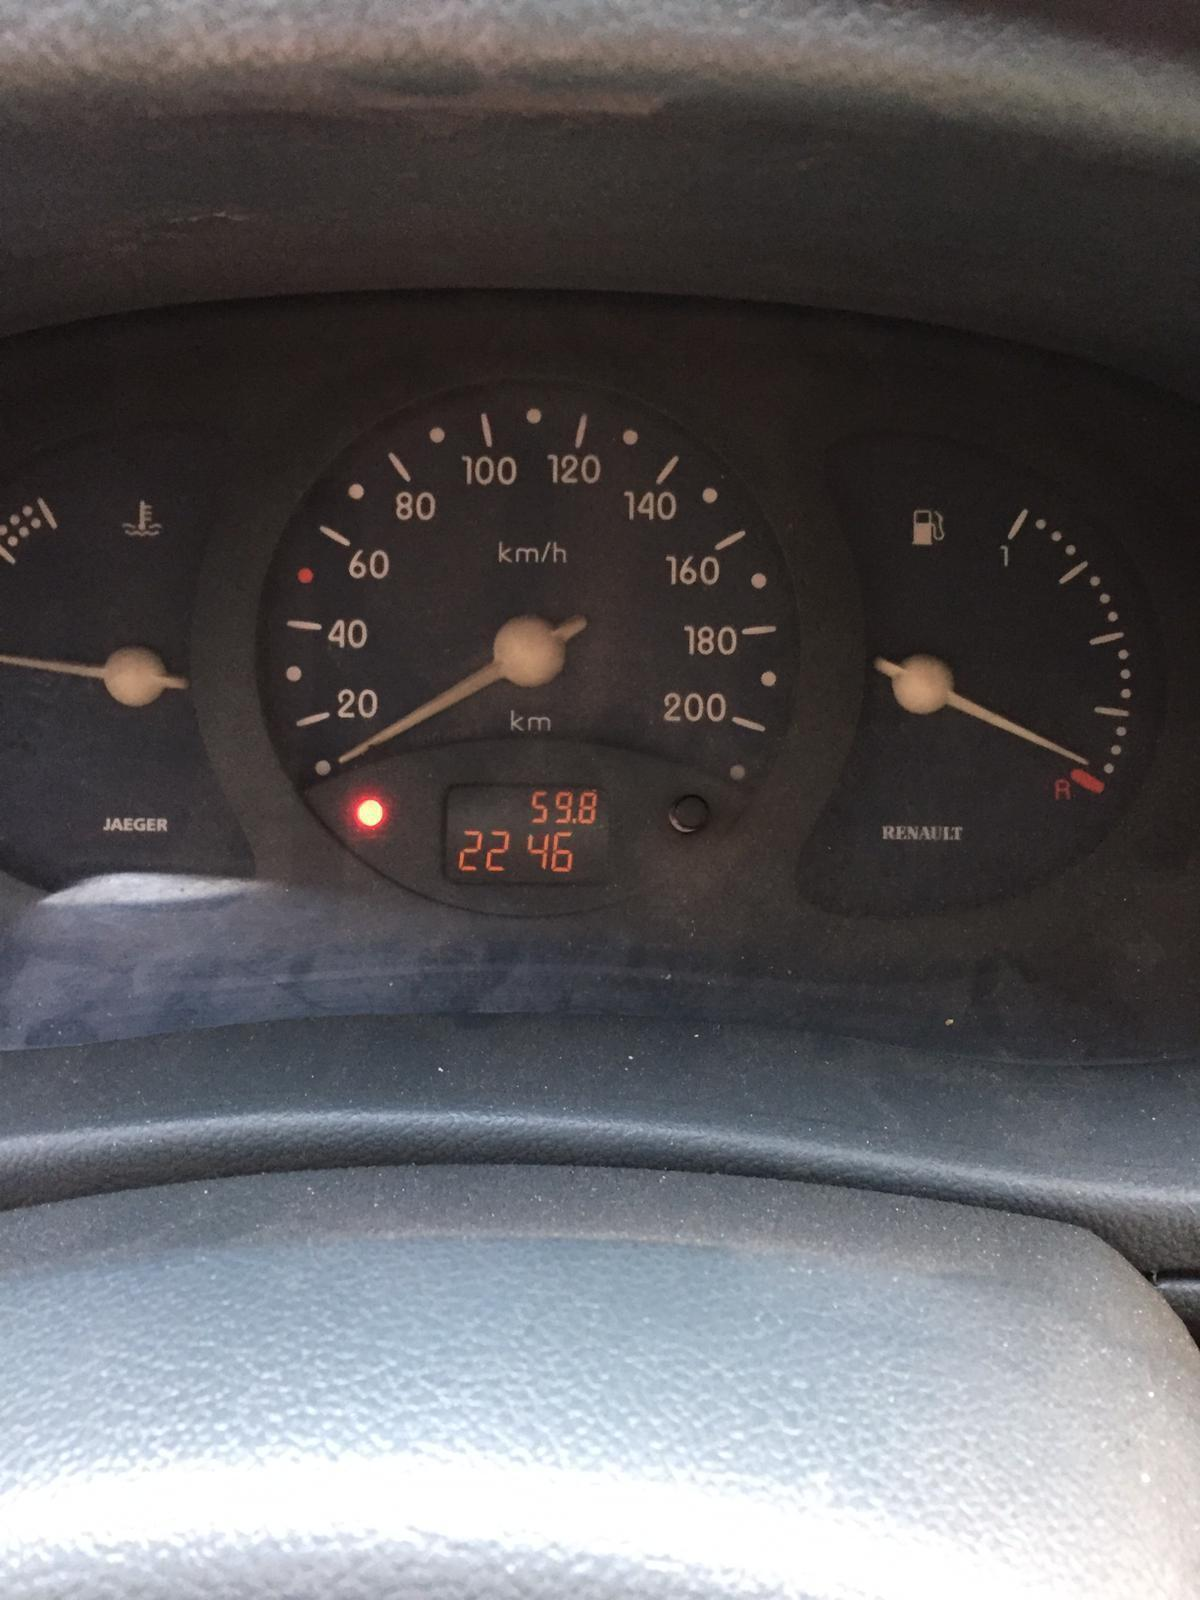,: (572, 816, 577, 825)
2: (485, 830, 511, 872), (458, 829, 483, 871)
4: (526, 831, 550, 869)
5: (529, 790, 548, 823)
6: (550, 830, 574, 872)
8: (577, 792, 597, 824)
9: (555, 791, 572, 824)
odometer: (439, 781, 613, 889)
